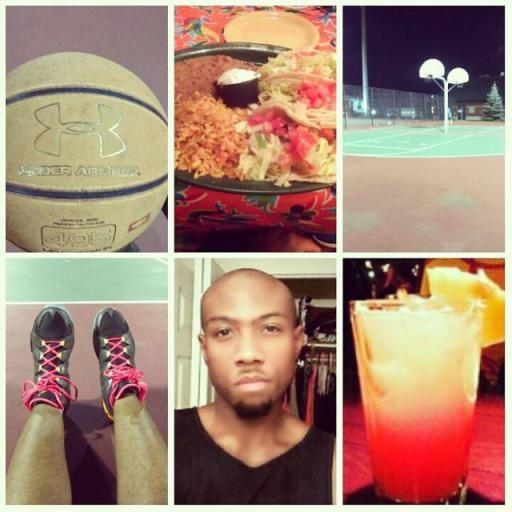Under Armour: (19, 91, 144, 182)
